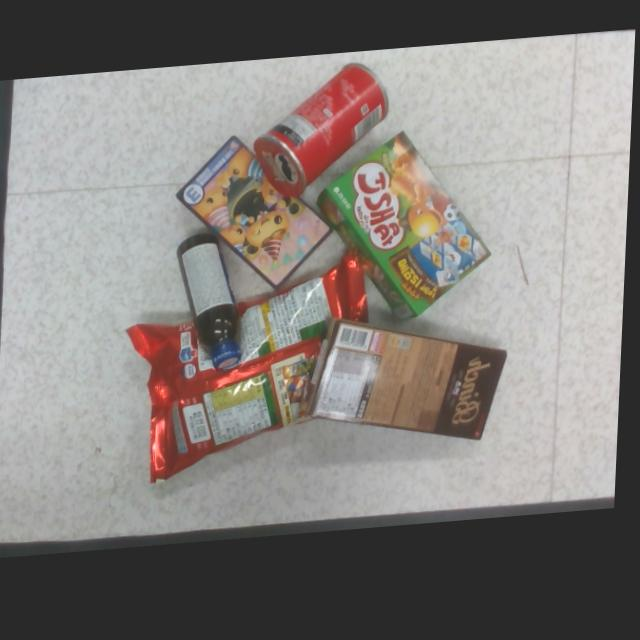bongji: (130, 261, 380, 486)
box: (319, 137, 495, 324), (313, 326, 511, 448), (177, 139, 333, 292)
canSnack: (255, 68, 388, 201)
energdrink: (180, 237, 244, 374)
